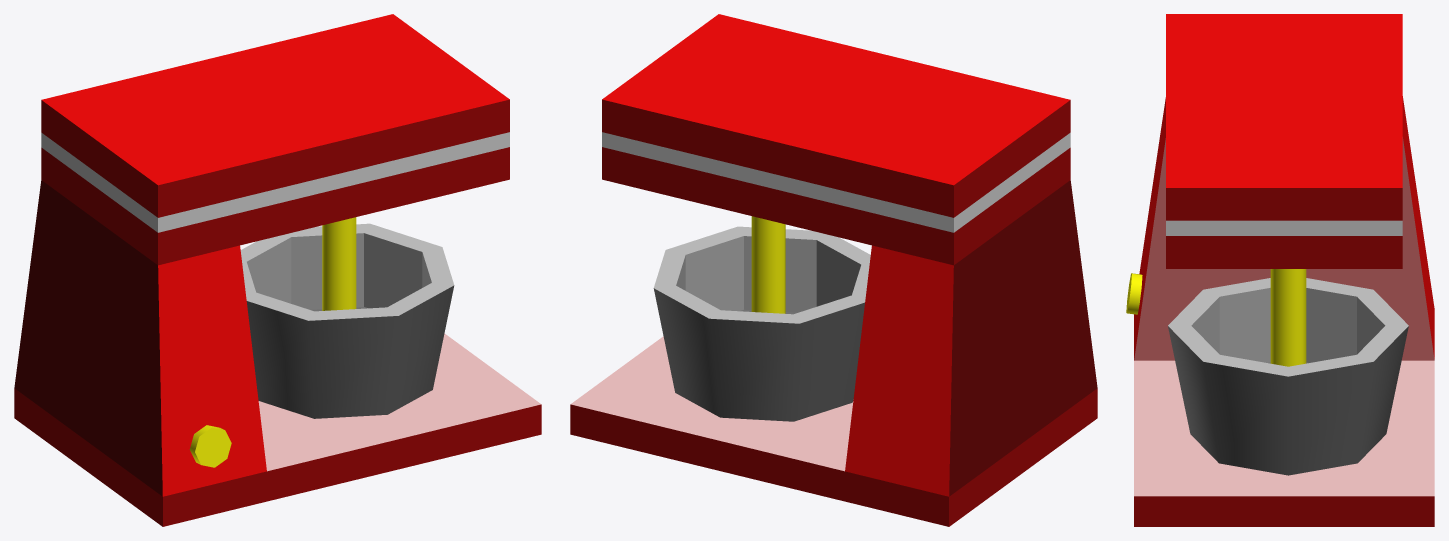
File: Mixer.fbx
3 views of the same model, side by side, from view 1: azimuth 30°, elevation 25°; view 2: azimuth 150°, elevation 25°; view 3: azimuth 270°, elevation 25° (orthographic).
Visible parts, largest first — view 1: Mixer; view 2: Mixer; view 3: Mixer.
Part boxes in pixels (x1,y1,x2,y2): Mixer: (14, 14, 541, 526); Mixer: (570, 14, 1097, 526); Mixer: (1126, 14, 1434, 526).
Size of the model in its own units: 44.74 by 36.95 by 31.17.
